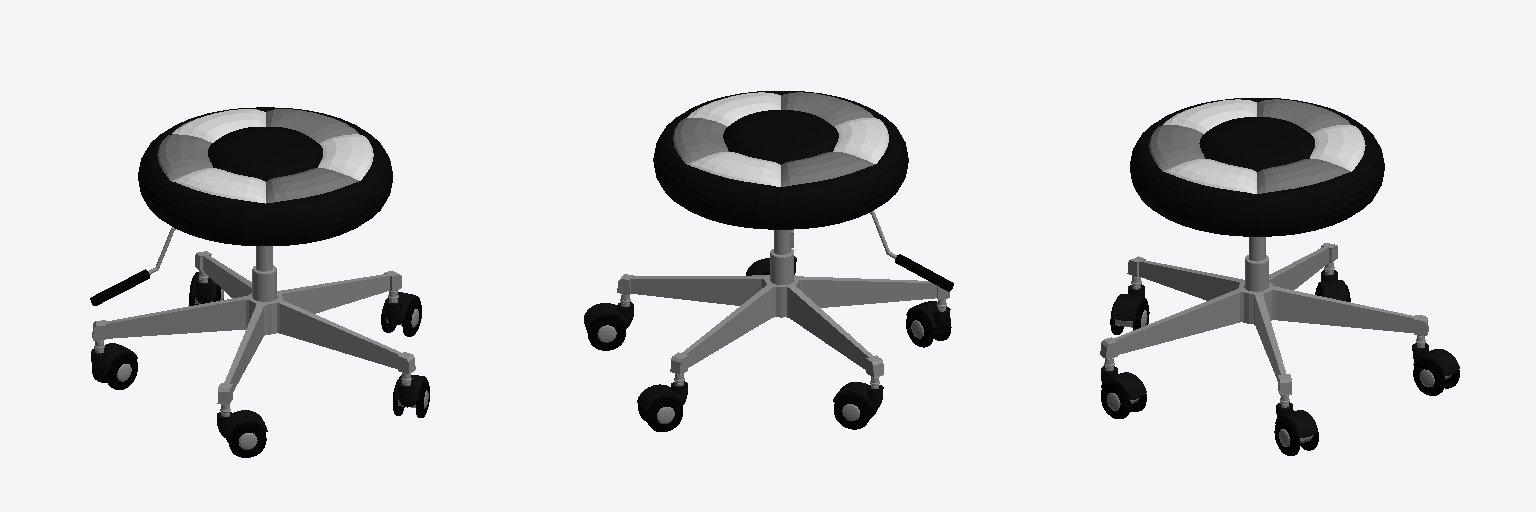
File: footstool_poser.obj
The picture shows the model from 3 angles: view 1: azimuth 30°, elevation 25°; view 2: azimuth 150°, elevation 25°; view 3: azimuth 270°, elevation 25°; orthographic projection.
Parts seen in each view (by area): view 1: seat, stand, wheels, handle; view 2: seat, stand, wheels, handle; view 3: seat, stand, wheels.
Part boxes in pixels (x1,y1,x2,y2): seat: (138, 107, 392, 245); stand: (92, 246, 415, 404); wheels: (91, 271, 429, 457); handle: (90, 227, 175, 305); seat: (653, 91, 908, 229); stand: (617, 230, 949, 377); wheels: (584, 248, 951, 431); handle: (870, 211, 953, 291); seat: (1130, 98, 1384, 236); stand: (1100, 237, 1428, 395); wheels: (1101, 263, 1459, 455).
Size of the model in its own units: 0.3198 by 0.212 by 0.2858.